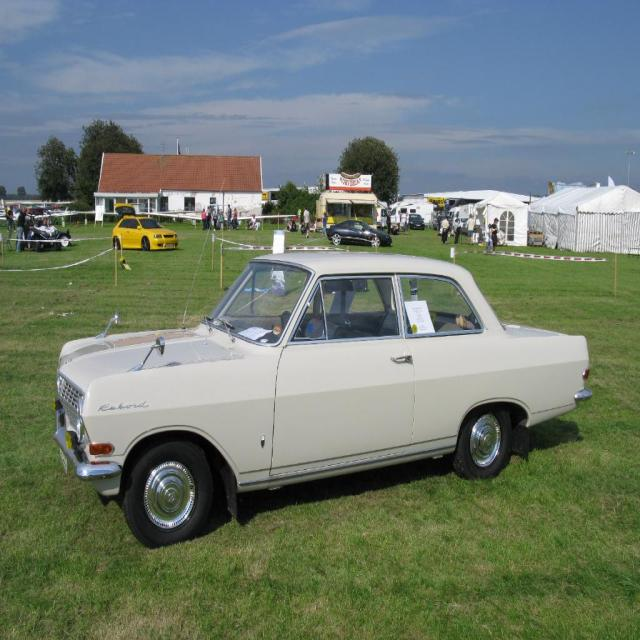car: (45, 251, 588, 538), (110, 197, 178, 251), (327, 215, 393, 246), (20, 209, 68, 248)
